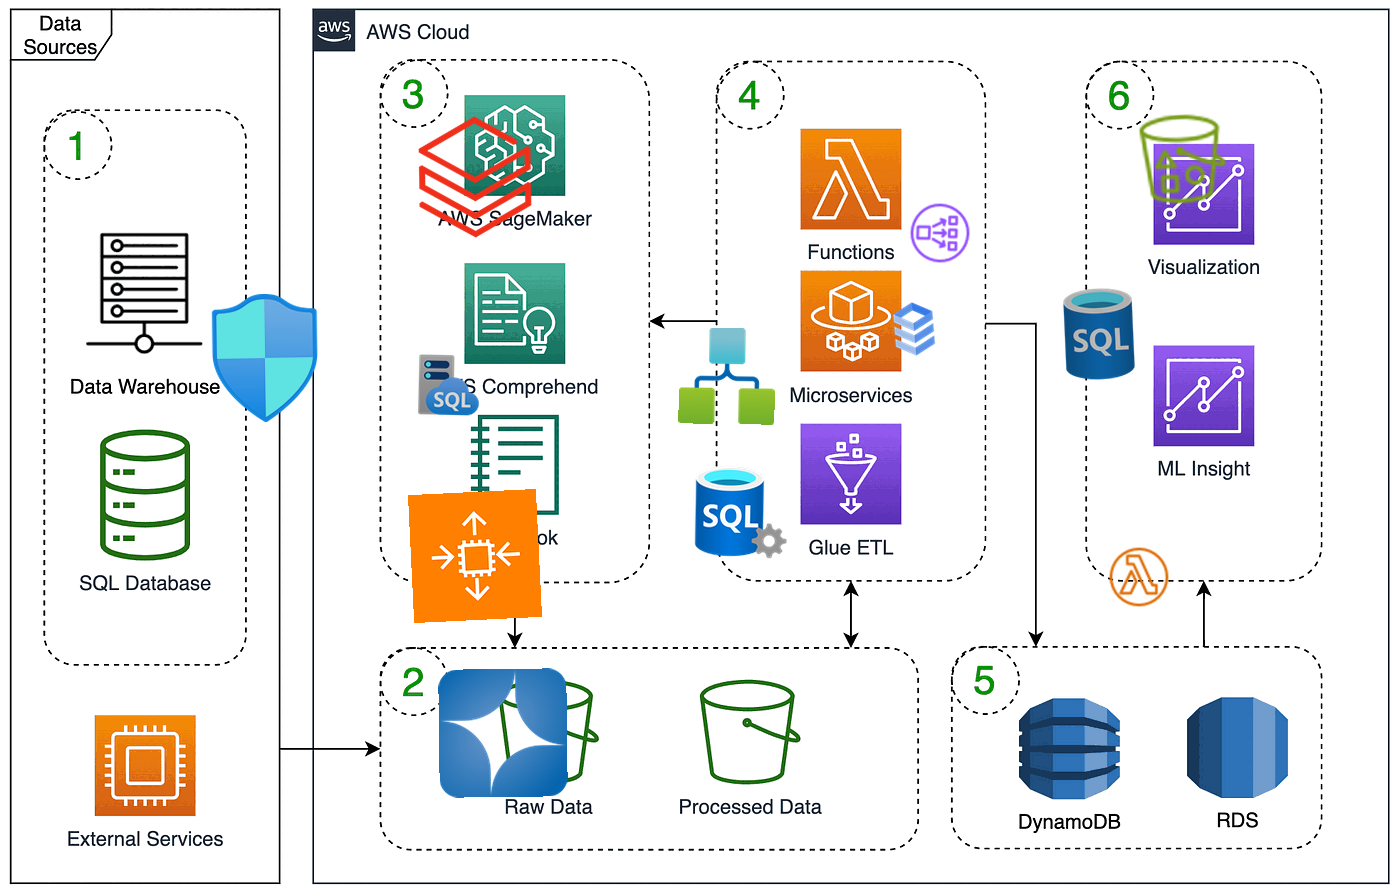aws_amazon_ec2_auto_scaling: (407, 488, 543, 624)
aws_elastic_load_balancing_network_load_balancer: (907, 200, 973, 266)
aws_lambda_lambda_function: (1106, 544, 1172, 610)
aws_simple_storage_service_bucket_with_objects: (1132, 108, 1234, 210)
azure_databricks: (410, 112, 540, 242)
azure_logic_apps: (678, 327, 776, 425)
azure_network_security_groups: (200, 293, 330, 423)
azure_openai: (438, 668, 568, 798)
azure_sql_database: (1048, 283, 1150, 385)
azure_sql_managed_instance: (416, 352, 482, 418)
azure_sql_server: (692, 463, 790, 561)
gcp_cloud_sql: (879, 294, 949, 364)
